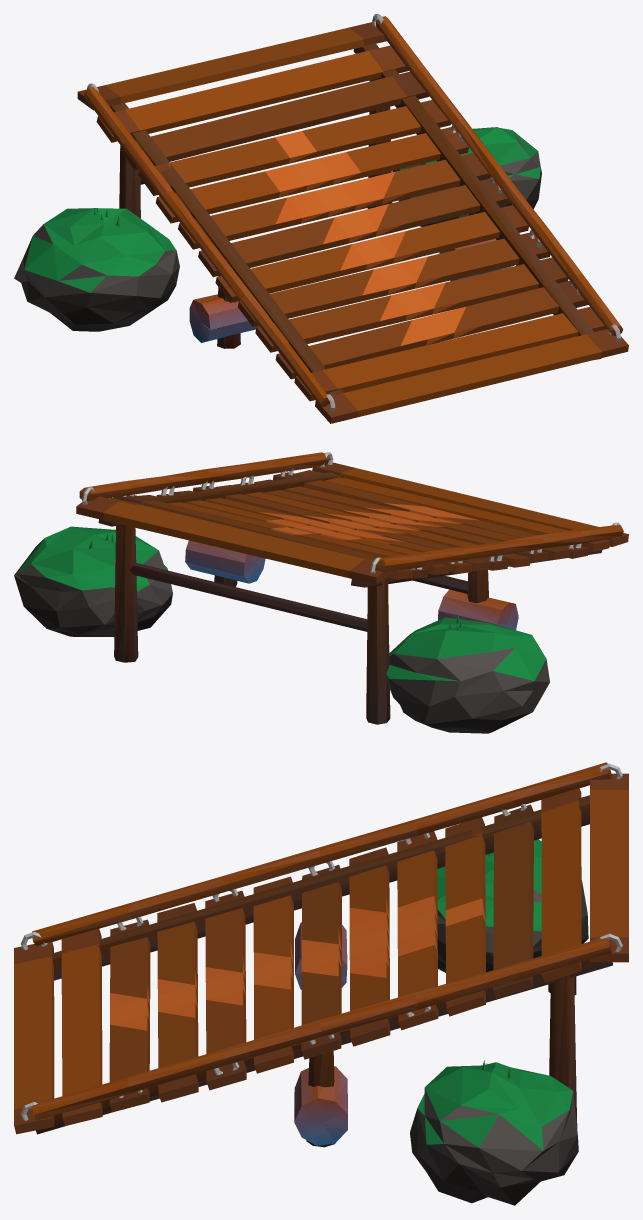
Rendered from riverrush_short_ramp_cedar_414754 (1).glb.
The picture shows the model from 3 angles, top to bottom: view 1: azimuth 30°, elevation 25°; view 2: azimuth 150°, elevation 25°; view 3: azimuth 270°, elevation 25°; orthographic projection. The views are drawn at different scales.
Visible parts, largest first — view 1: Tanjakan_Jumping_Pendek; view 2: Tanjakan_Jumping_Pendek; view 3: Tanjakan_Jumping_Pendek.
Part boxes in pixels (x1,y1,x2,y2): Tanjakan_Jumping_Pendek: [14, 14, 628, 423]; Tanjakan_Jumping_Pendek: [14, 452, 628, 733]; Tanjakan_Jumping_Pendek: [14, 762, 628, 1205].
Bounding box in the file's own units: 9.56 × 3.45 × 8.21.
